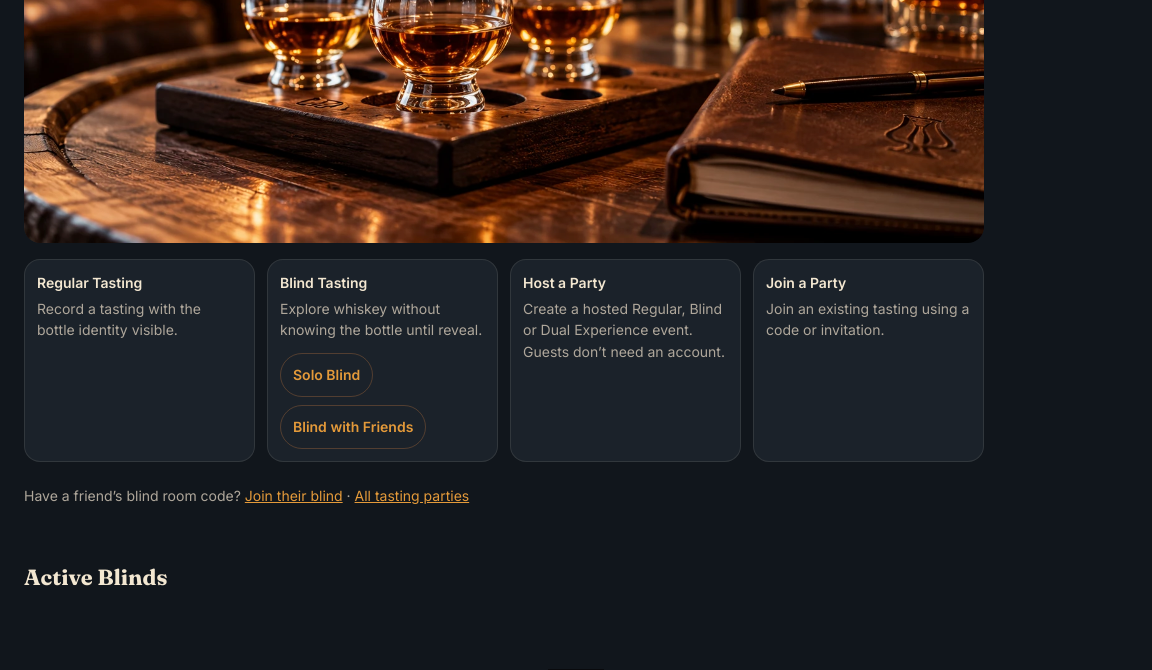
BlindRoomLandingPage › starts a regular tasting from a bottle in My Bar when there is one
This screenshot has width=1152, height=670.
(page scrolled)
Click the button "Regular Tasting". click: (140, 361)
box: [24,259,255,462]
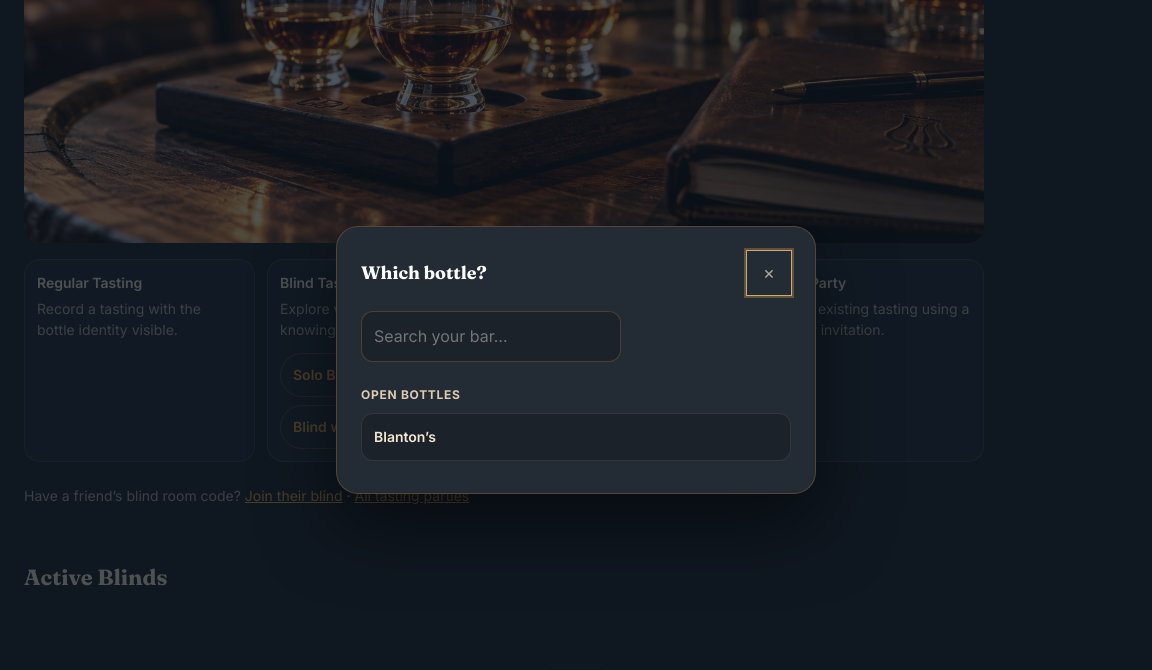
Now the dialog "Which bottle?" is shown, box [336,226,816,494]
